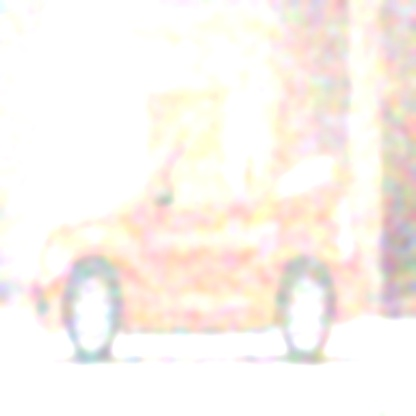Vehicle: (21, 118, 387, 392)
